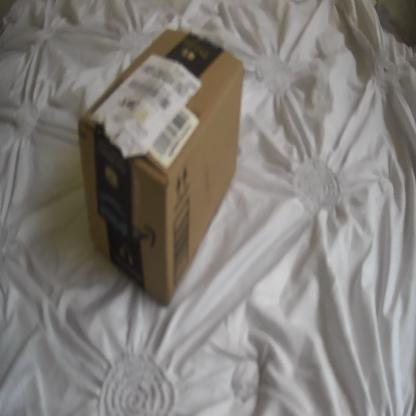package: (72, 22, 250, 322)
